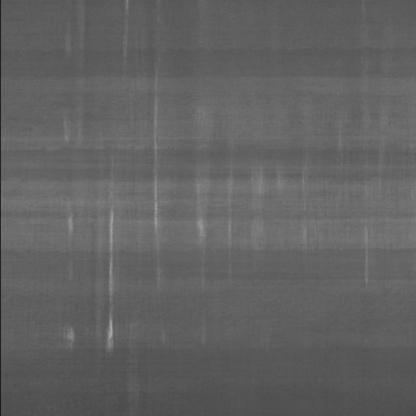waist_folding: (37, 0, 380, 369)
